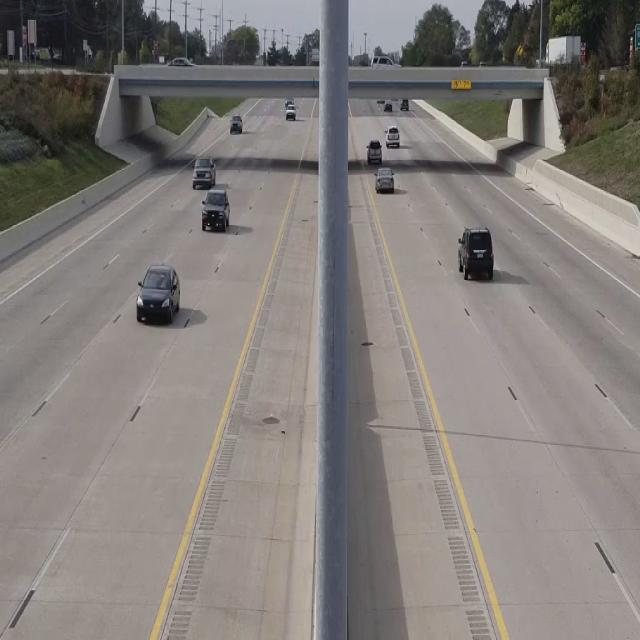car: (136, 264, 180, 324), (457, 226, 492, 280), (200, 188, 230, 232), (192, 156, 215, 189), (375, 165, 394, 191), (367, 140, 381, 164), (384, 125, 398, 146), (284, 99, 296, 119), (230, 114, 243, 132)
